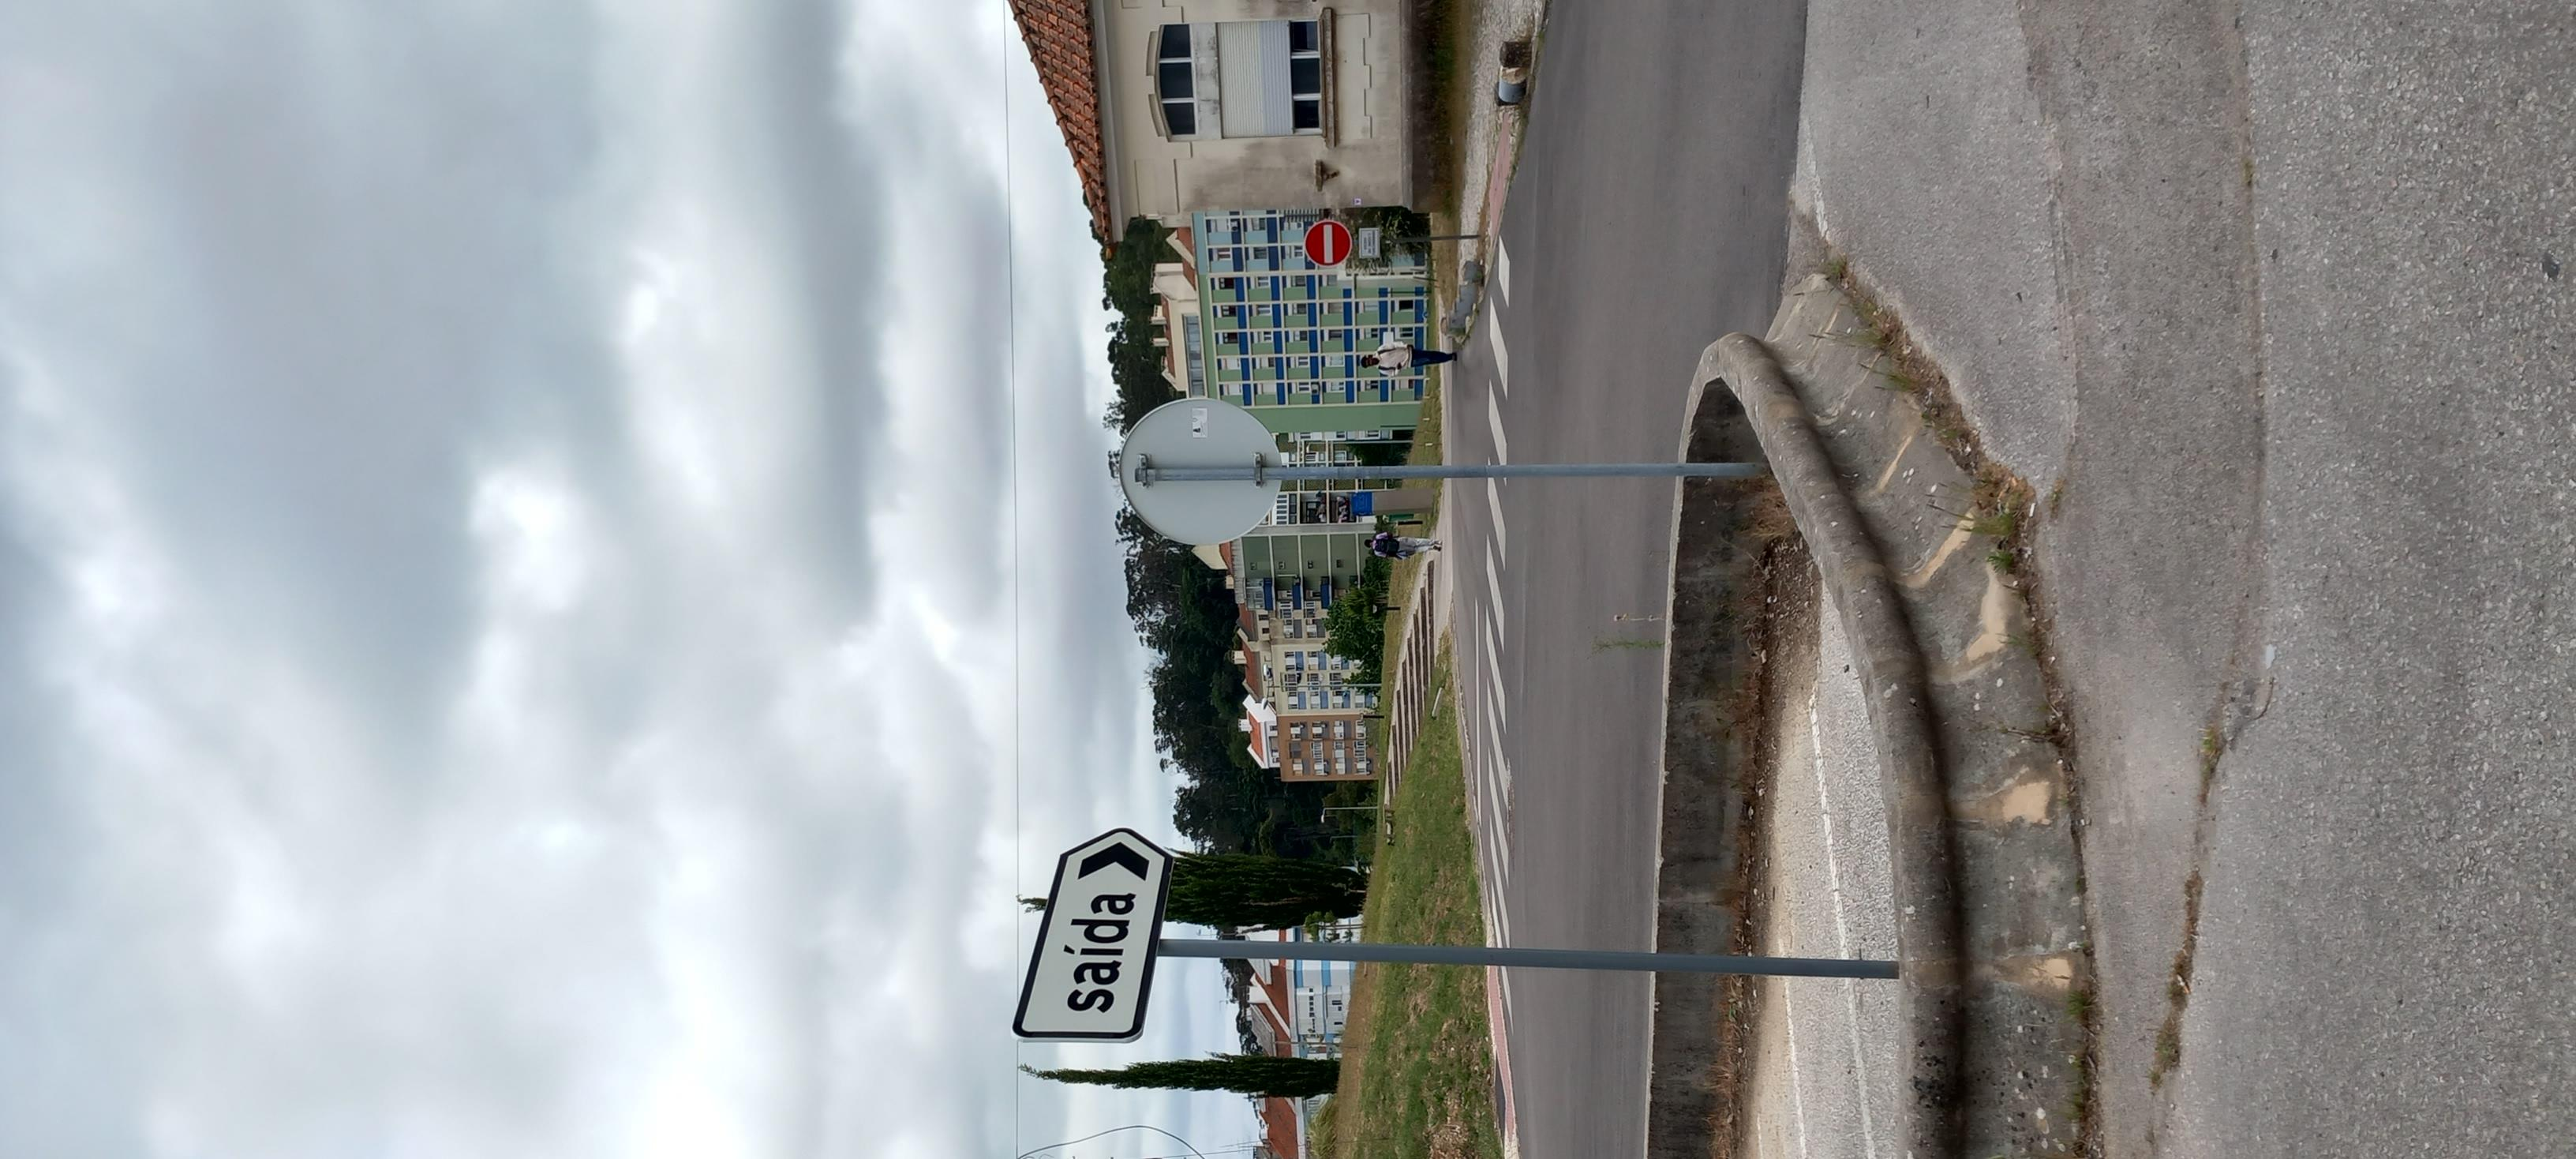pre-aviso reduzido: (186, 457, 846, 529)
